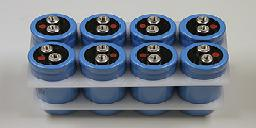Electrolytic Capacitor: (81, 42, 135, 75), (28, 42, 72, 72), (80, 11, 123, 39), (135, 12, 176, 41)
